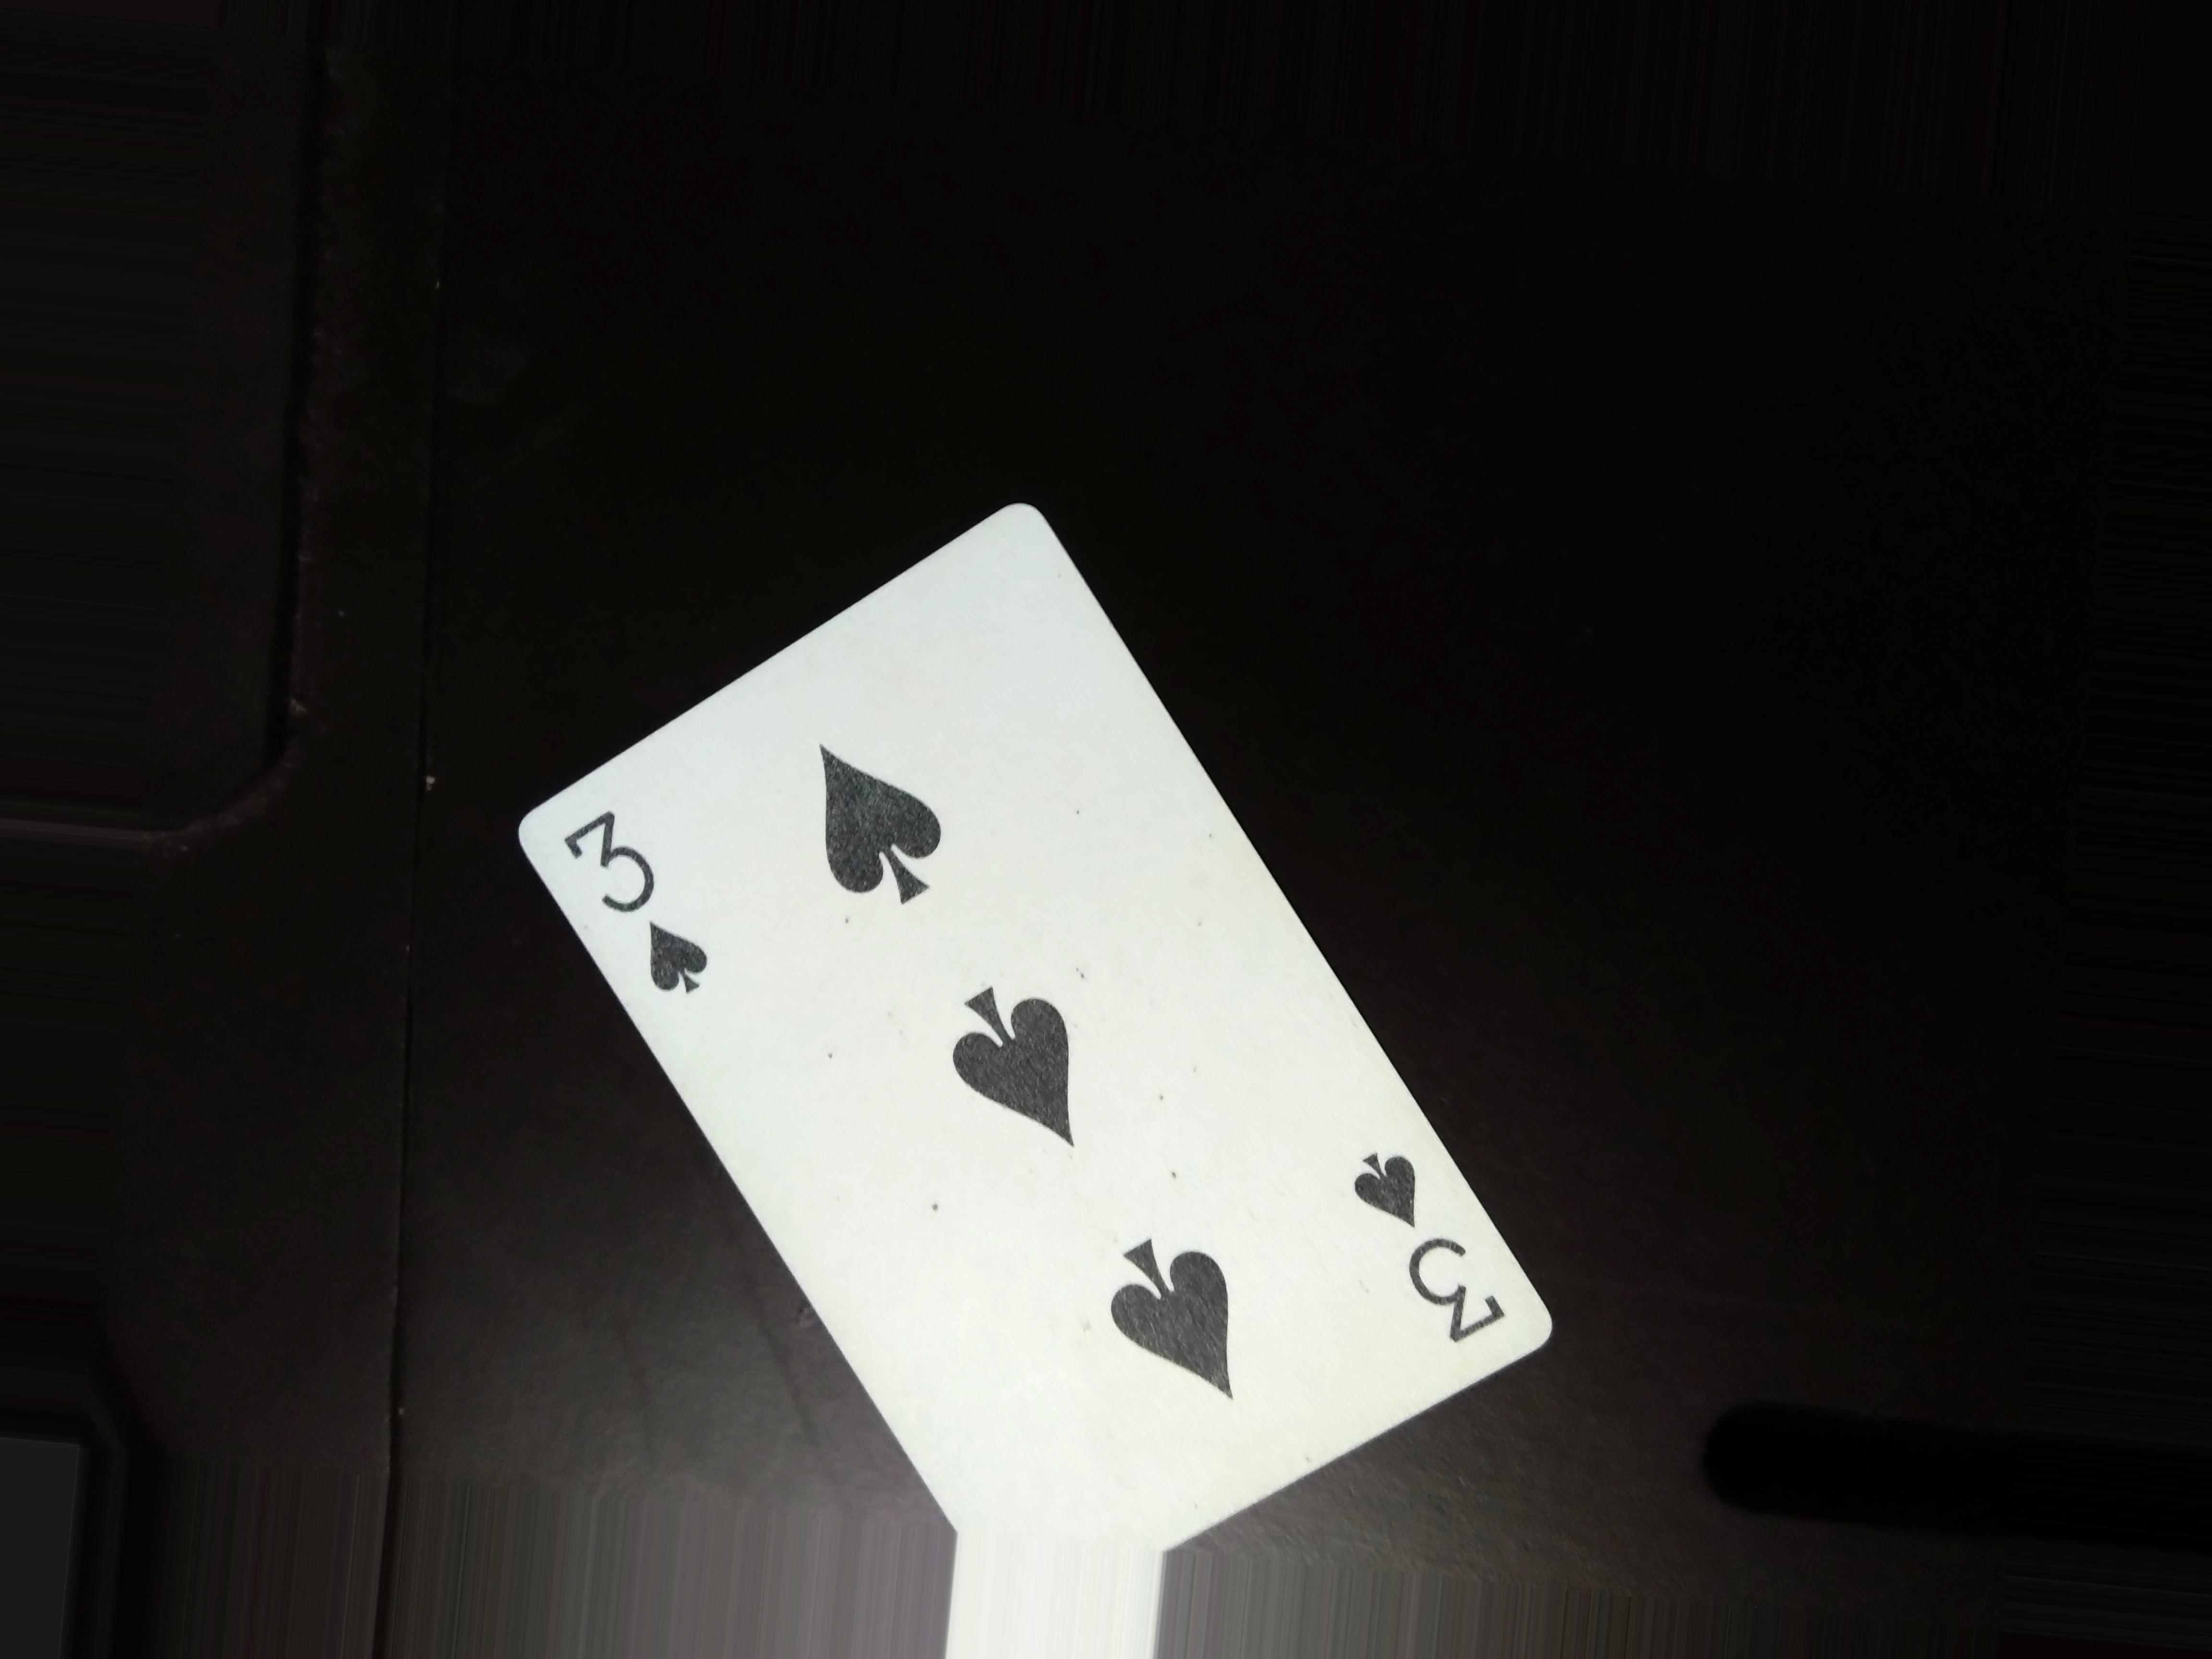3S: (1334, 1143, 1522, 1352)
